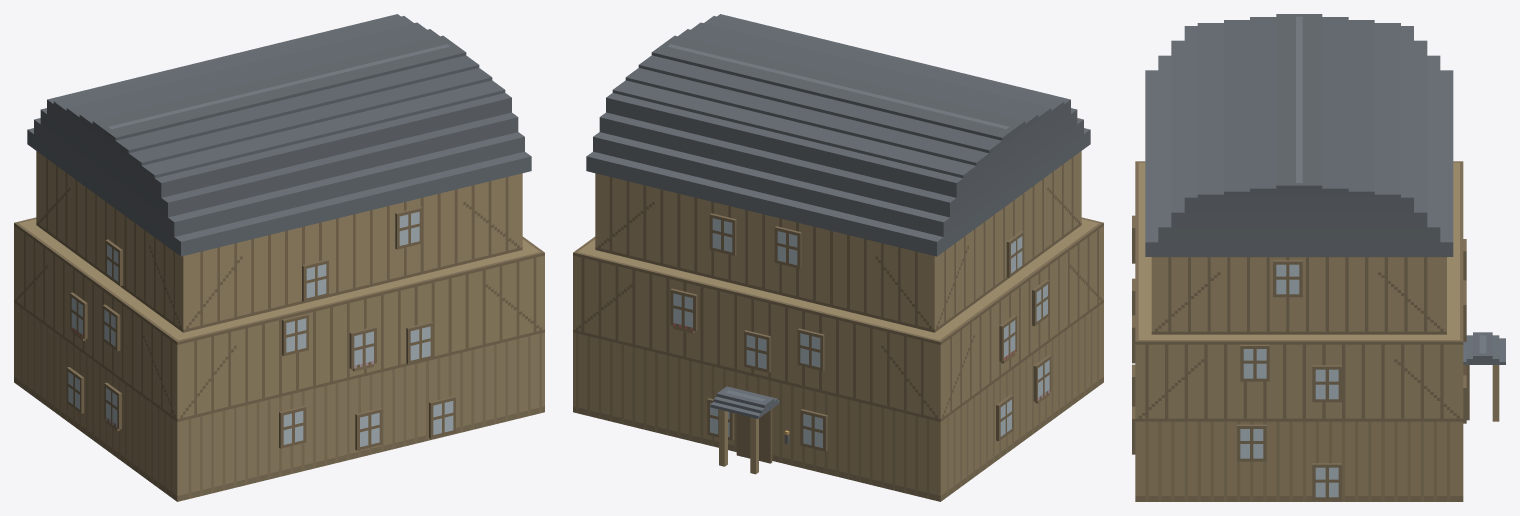
Rendered from mansion_03.glb.
3 views of the same model, side by side, from view 1: azimuth 30°, elevation 25°; view 2: azimuth 150°, elevation 25°; view 3: azimuth 270°, elevation 25° (orthographic).
Parts seen in each view (by area): view 1: mansion_03; view 2: mansion_03; view 3: mansion_03.
Boxes of the visible parts, <box> form: mansion_03: <box>14,14,544,501</box>; mansion_03: <box>573,14,1103,501</box>; mansion_03: <box>1132,14,1505,501</box>.
Bounding box in the file's own units: 13.2 × 10.5 × 11.4.
